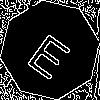E: (25, 25, 78, 81)
